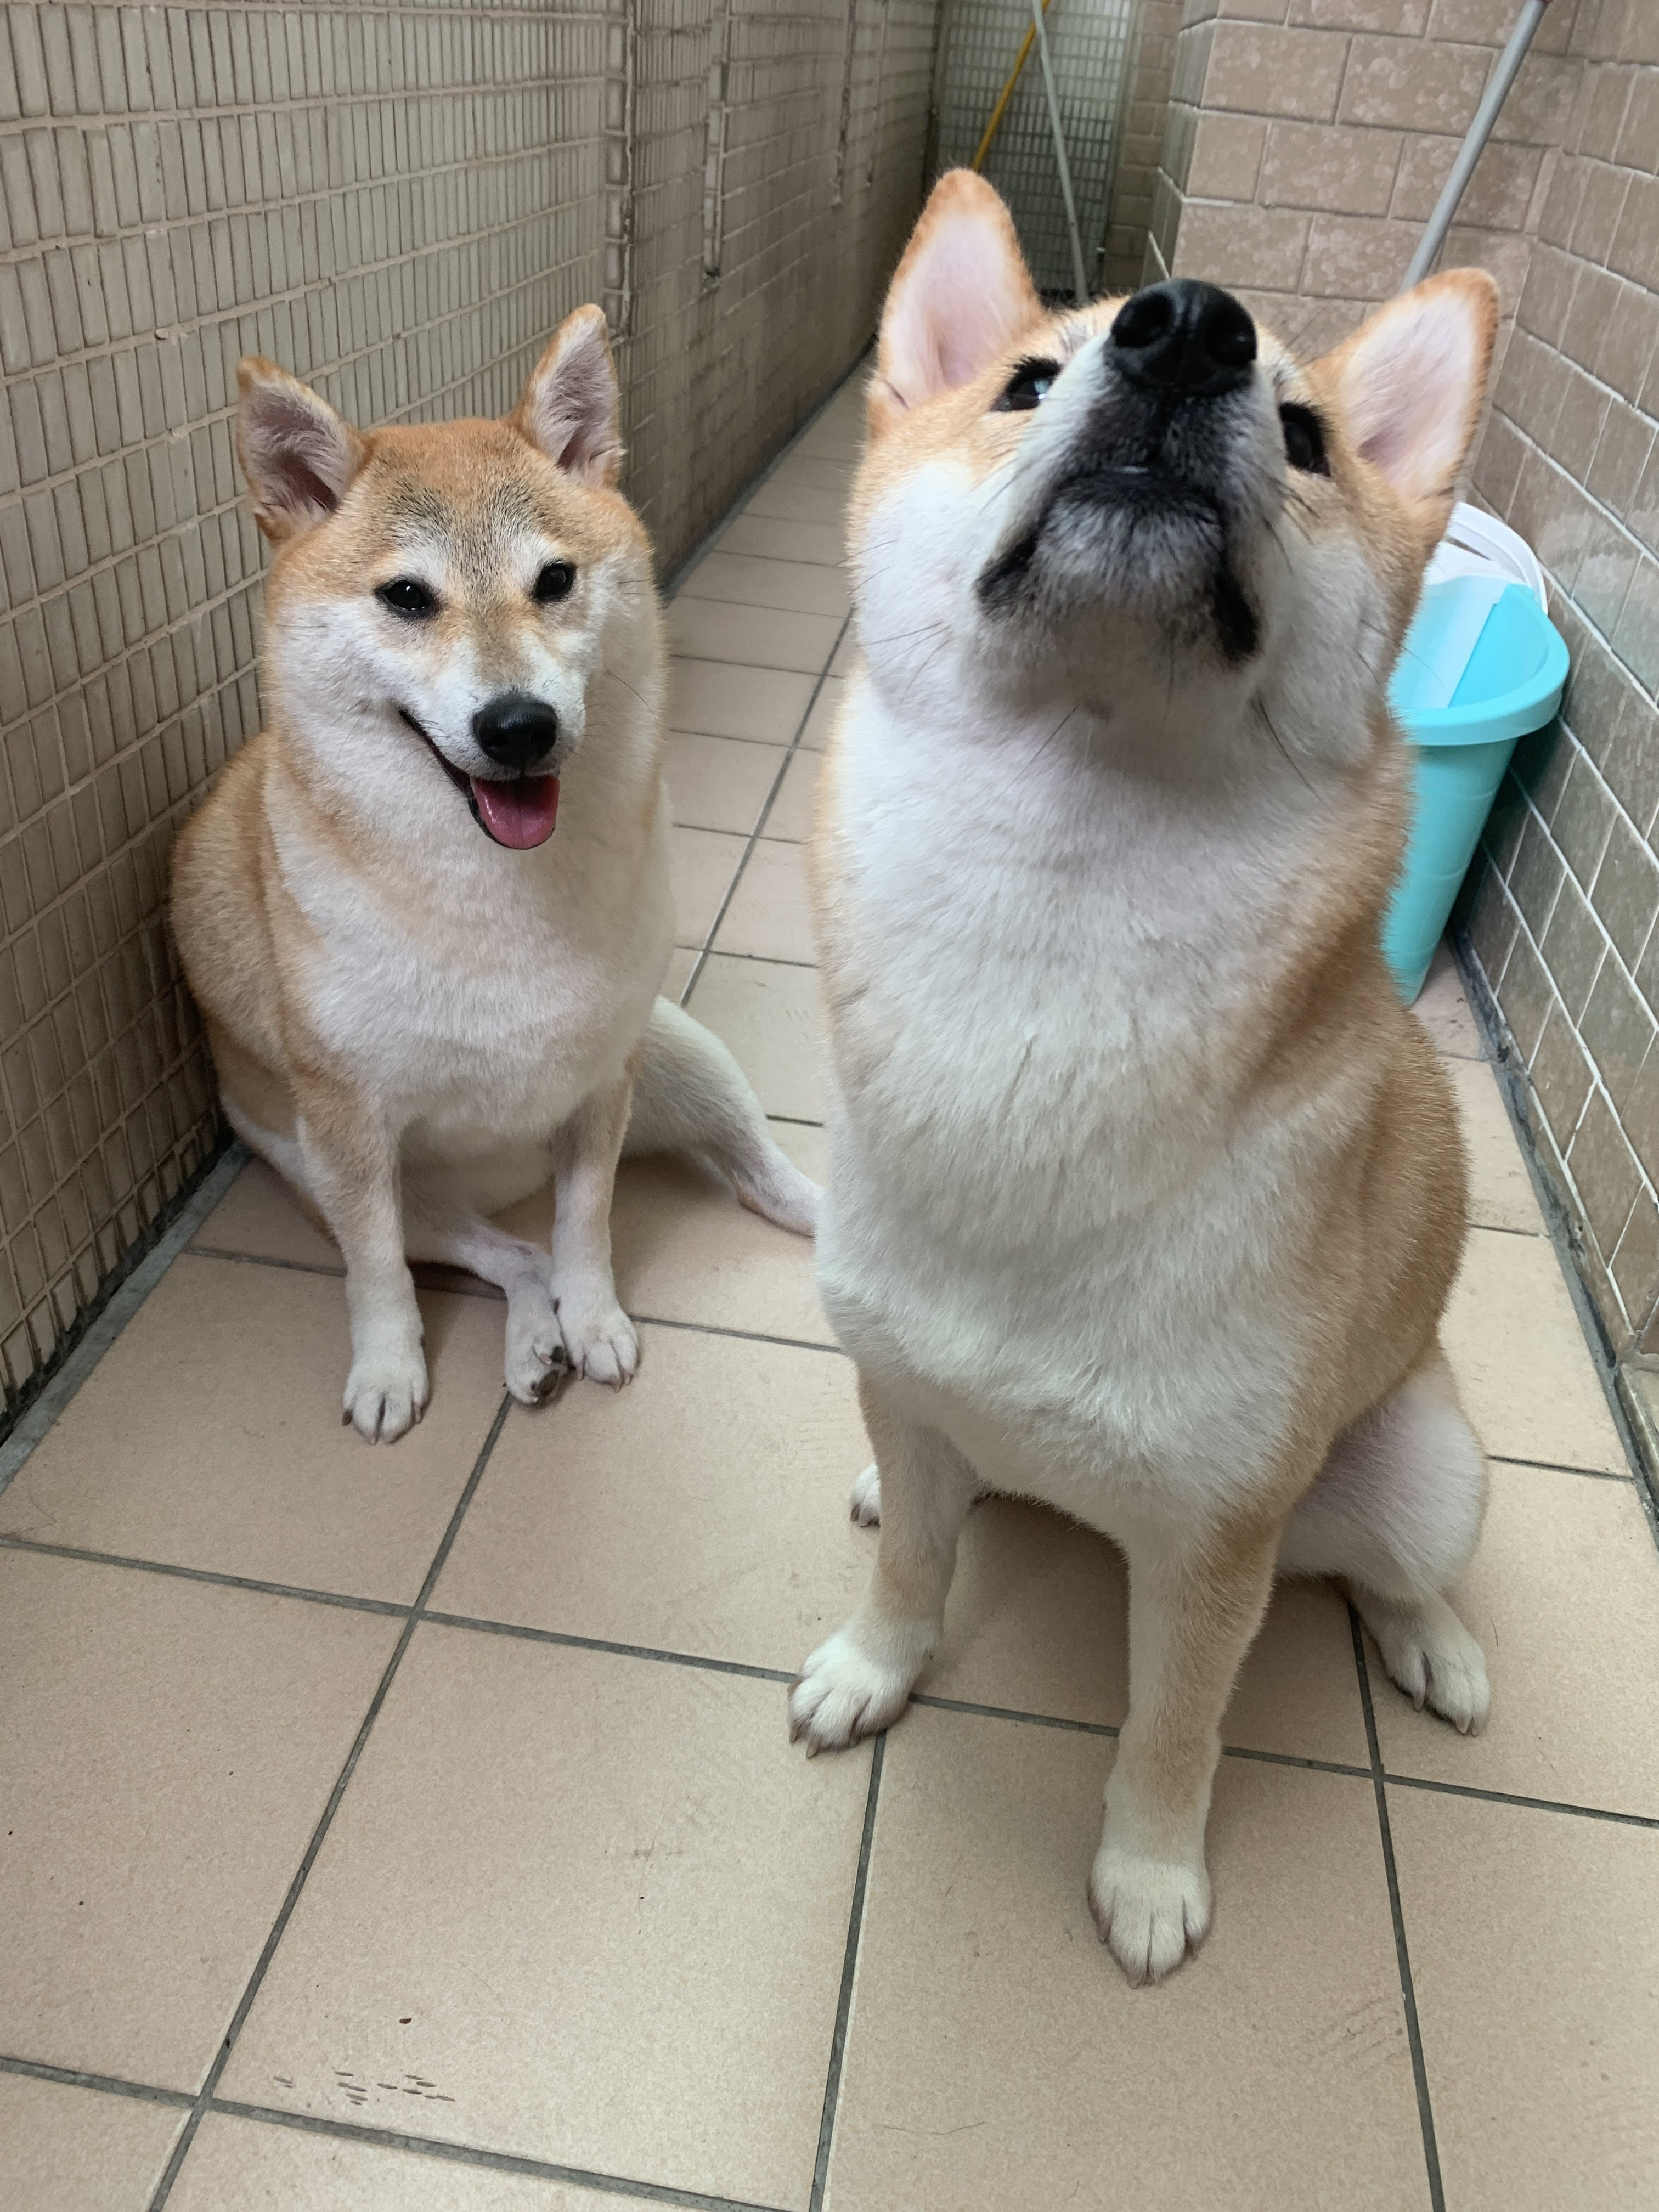Sit down: (774, 150, 1659, 2064), (117, 261, 795, 1578)
